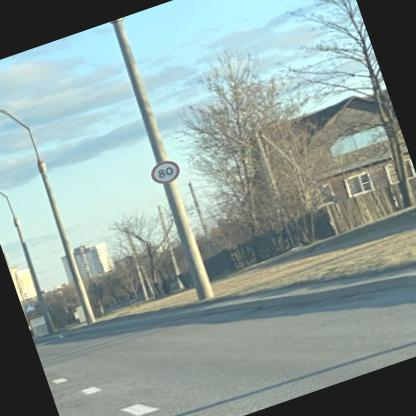speedlimit: (146, 157, 180, 186)
